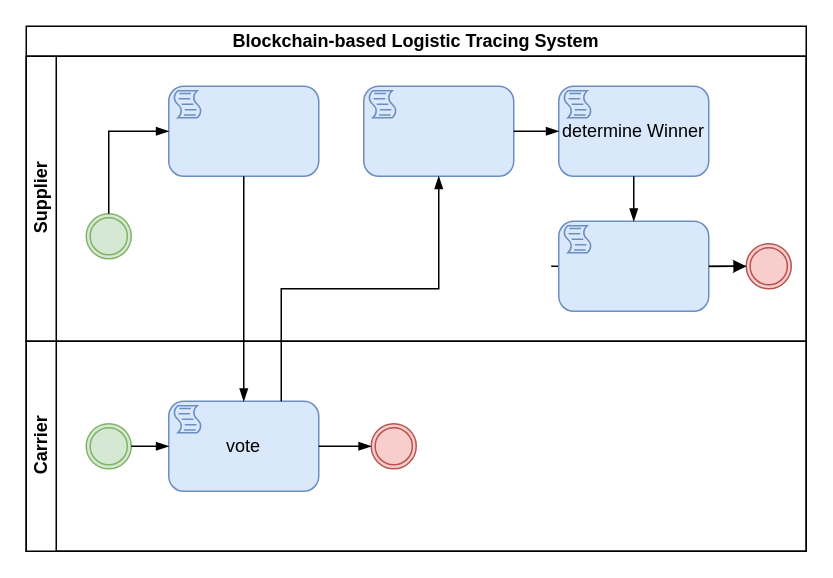
Some shapes in this 833 by 578 pixel diagram are drawn without their labels. The centre of each missing label's shape, as x and y in pixels:
close Voting: the point at 438,130
create Shipment: the point at 243,130
get All Candidate Vote Count: the point at 633,265
